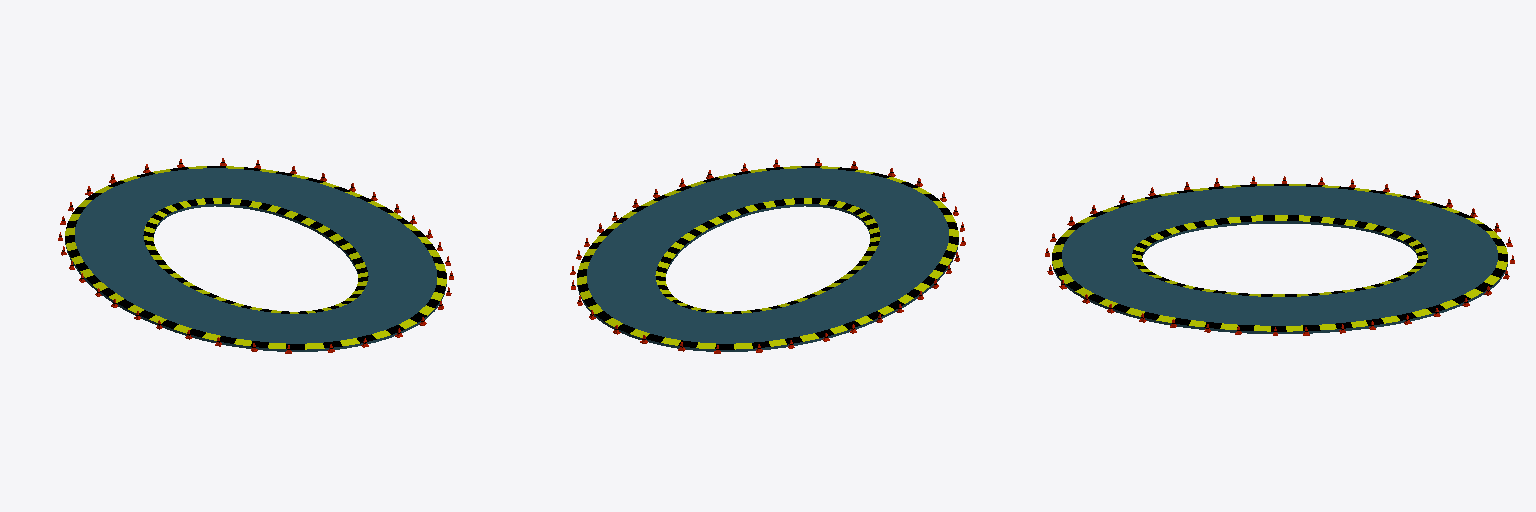
File: Track1.obj
3 renders of one model, left to right at view 1: azimuth 30°, elevation 25°; view 2: azimuth 150°, elevation 25°; view 3: azimuth 270°, elevation 25°, orthographic.
Visible parts, largest first — view 1: Plane.010_Plane.003; view 2: Plane.010_Plane.003; view 3: Plane.010_Plane.003.
Boxes of the visible parts, x1,y1,x2,y2 form: Plane.010_Plane.003: [58, 158, 453, 353]; Plane.010_Plane.003: [570, 158, 965, 353]; Plane.010_Plane.003: [1045, 176, 1514, 335].
Bounding box in the file's own units: 3.71 × 0.0979 × 4.81.